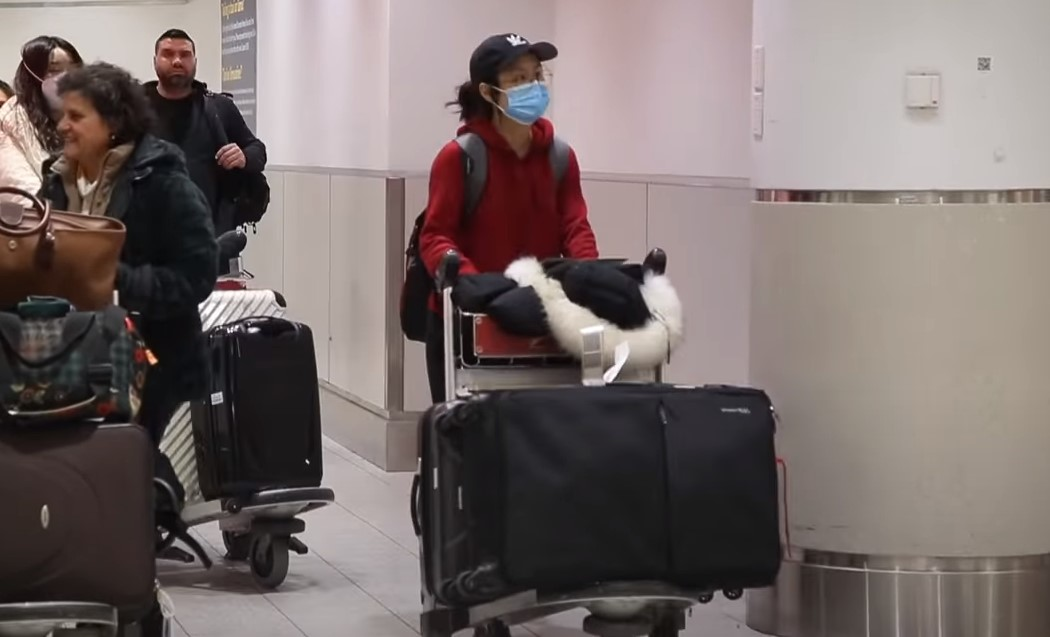face_no_mask: (52, 63, 141, 168), (148, 24, 199, 91)
face_with_mask: (461, 31, 562, 134), (12, 33, 82, 105)
